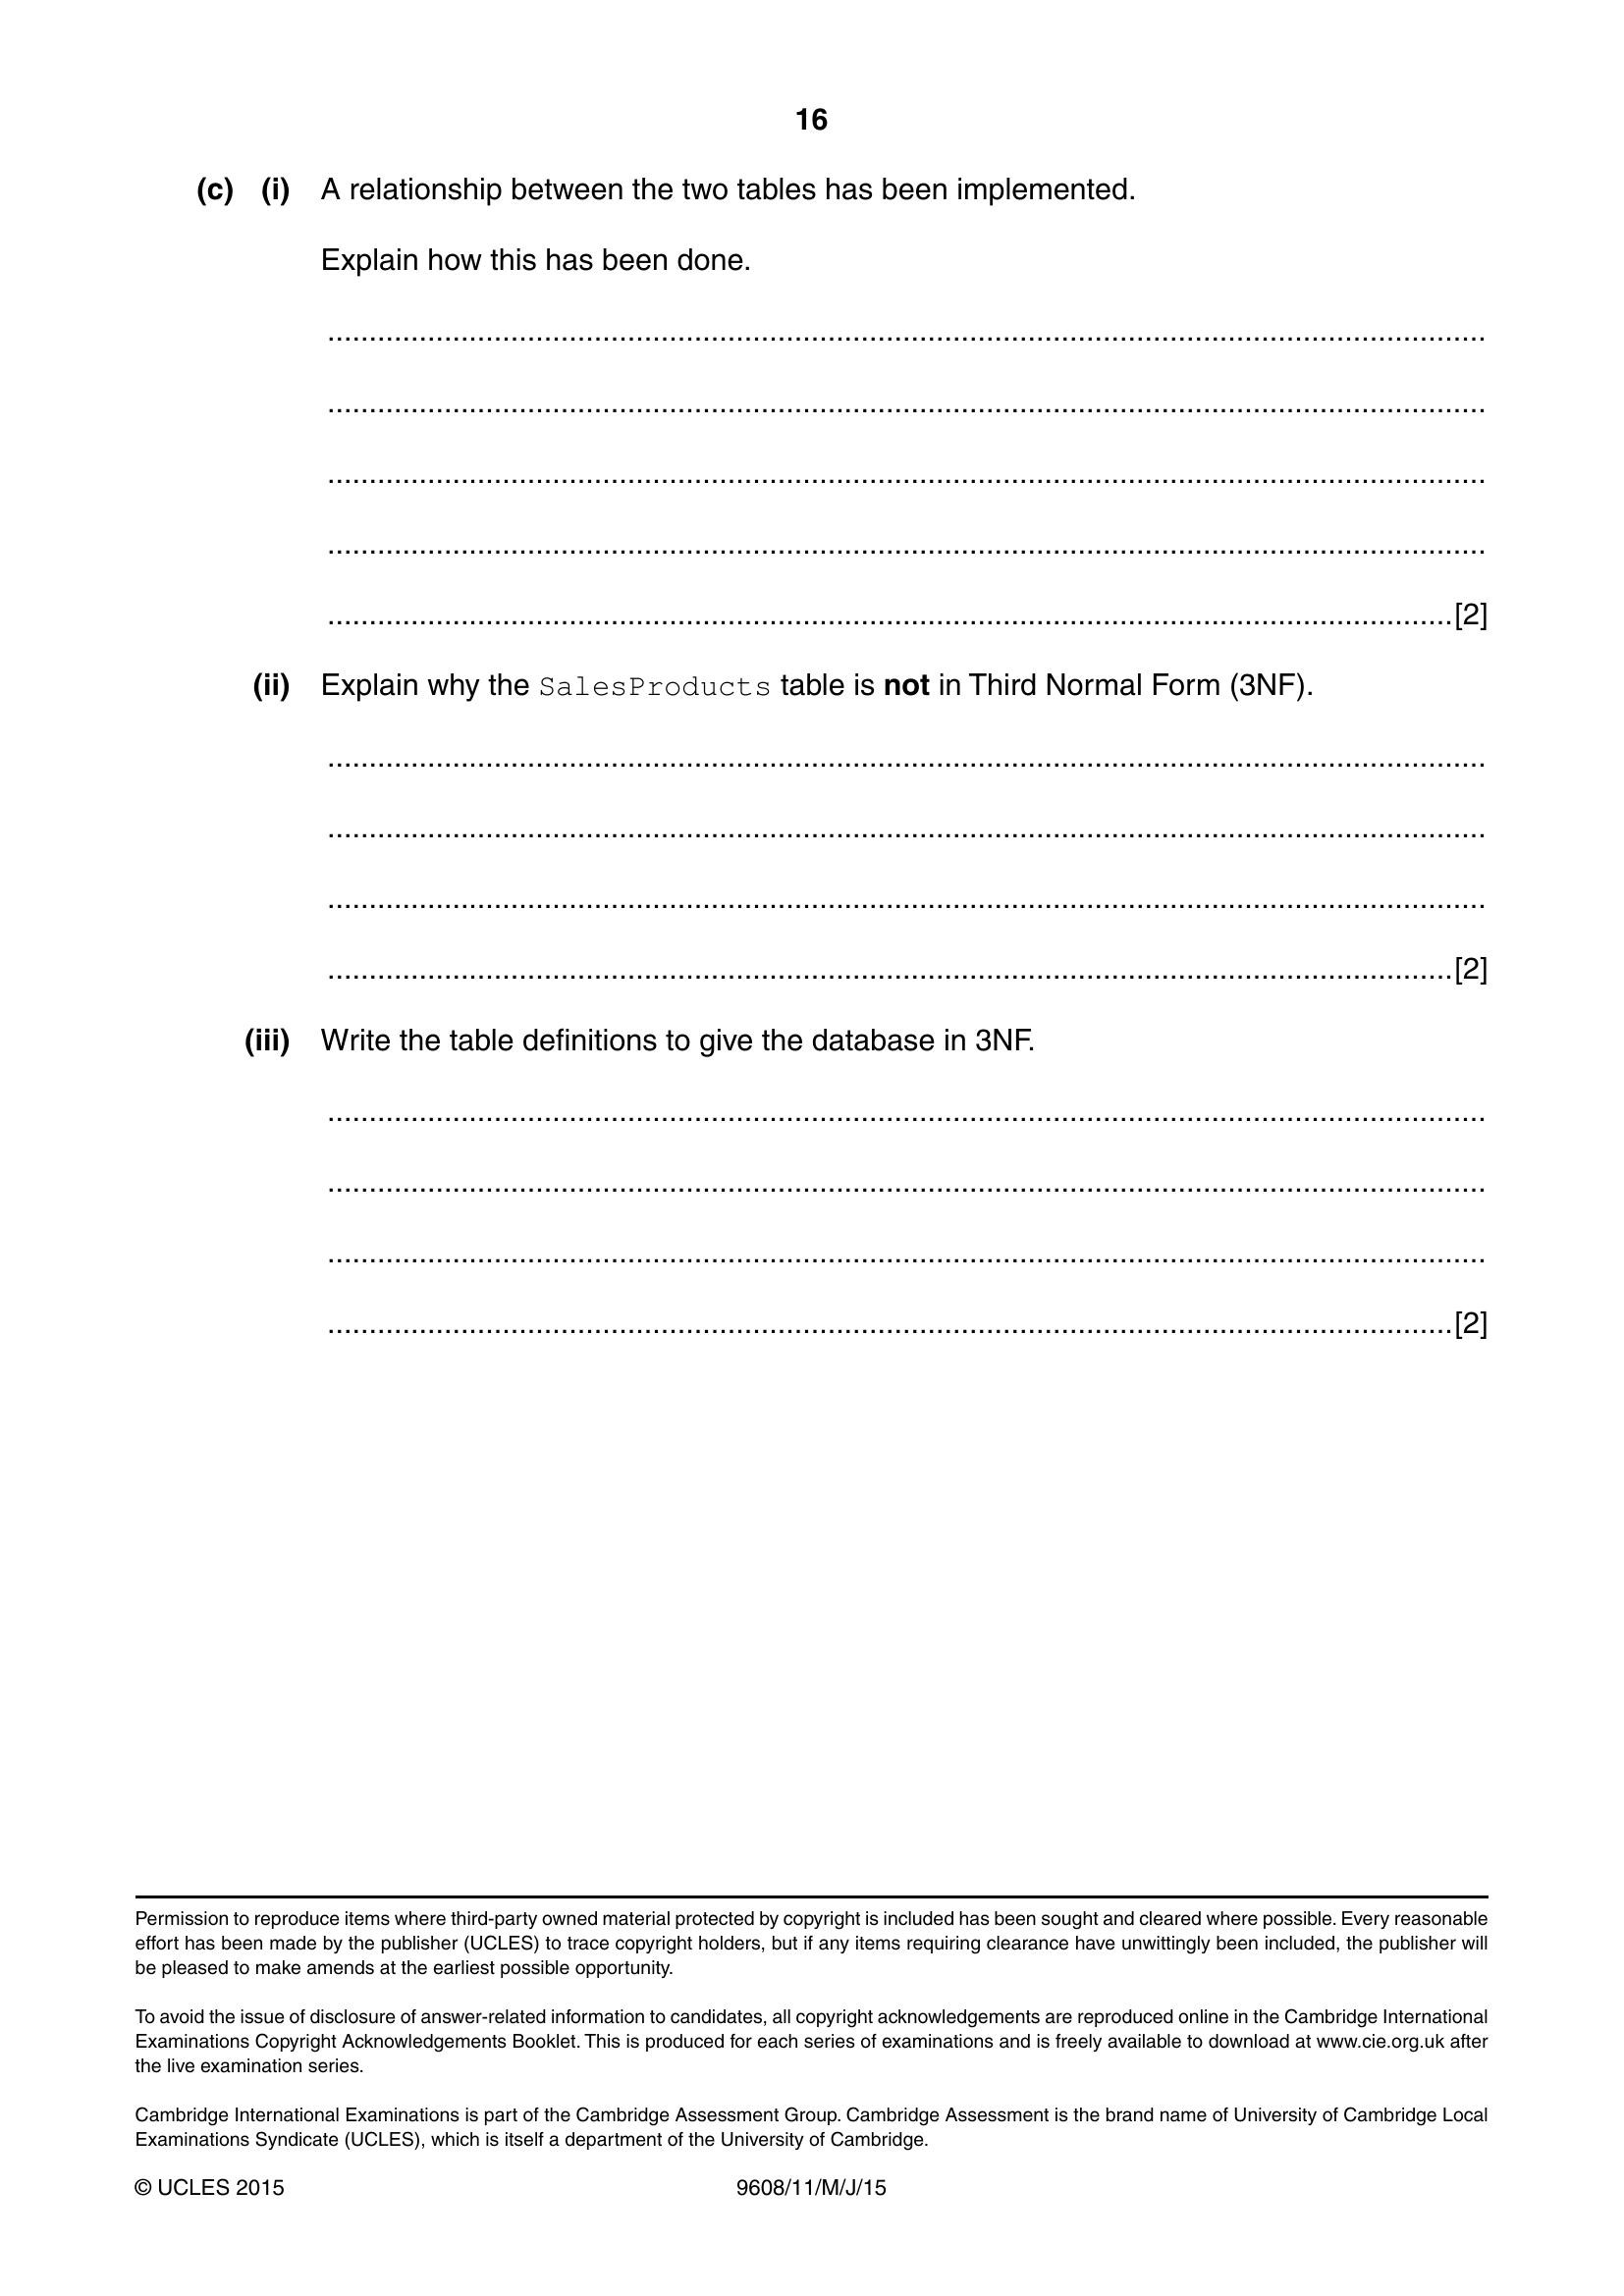continued question: (12, 144, 1624, 1491)
